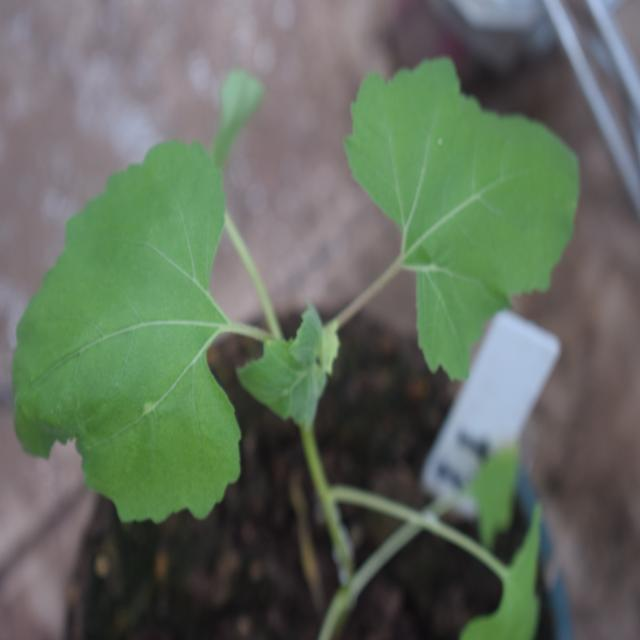cocklebur: (50, 41, 553, 536)
